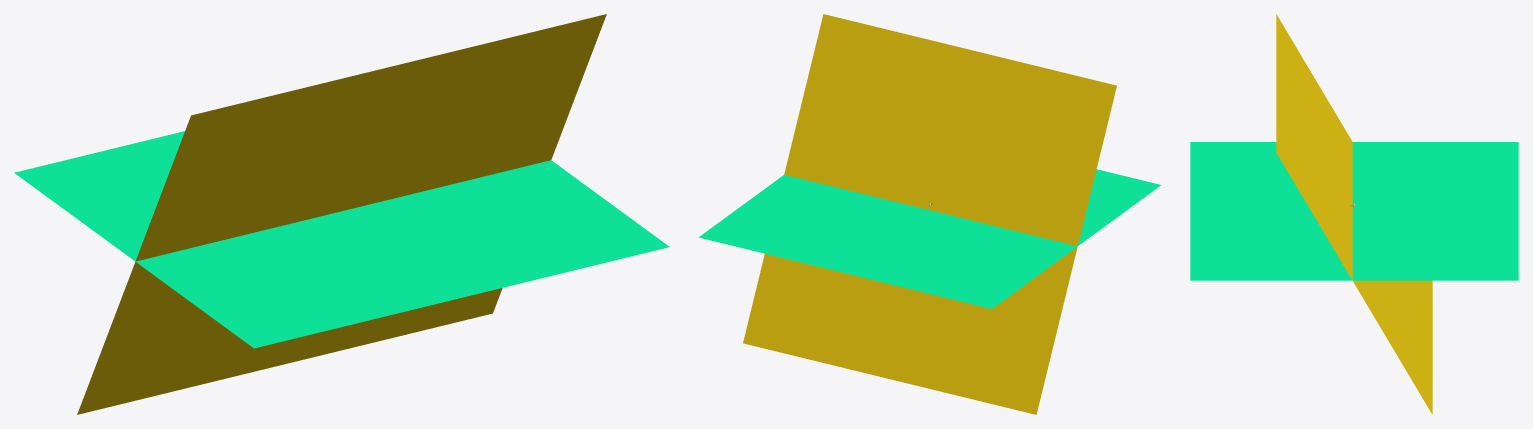
The model's file is Player_0.1.fbx.
The picture shows the model from 3 angles, left to right: view 1: azimuth 30°, elevation 25°; view 2: azimuth 150°, elevation 25°; view 3: azimuth 270°, elevation 25°; orthographic projection. The views are drawn at different scales.
Parts seen in each view (by area): view 1: Fog (1), Fog (2); view 2: Fog (1), Fog (2); view 3: Fog (2), Fog (1).
Part boxes in pixels (<box>): Fog (1): <box>77,14,606,414</box>; Fog (2): <box>14,131,669,348</box>; Fog (1): <box>743,14,1116,414</box>; Fog (2): <box>698,169,1160,308</box>; Fog (2): <box>1190,142,1518,280</box>; Fog (1): <box>1276,14,1432,414</box>.
Size of what is drawn, in the model's own units: 237 by 209 by 237.
